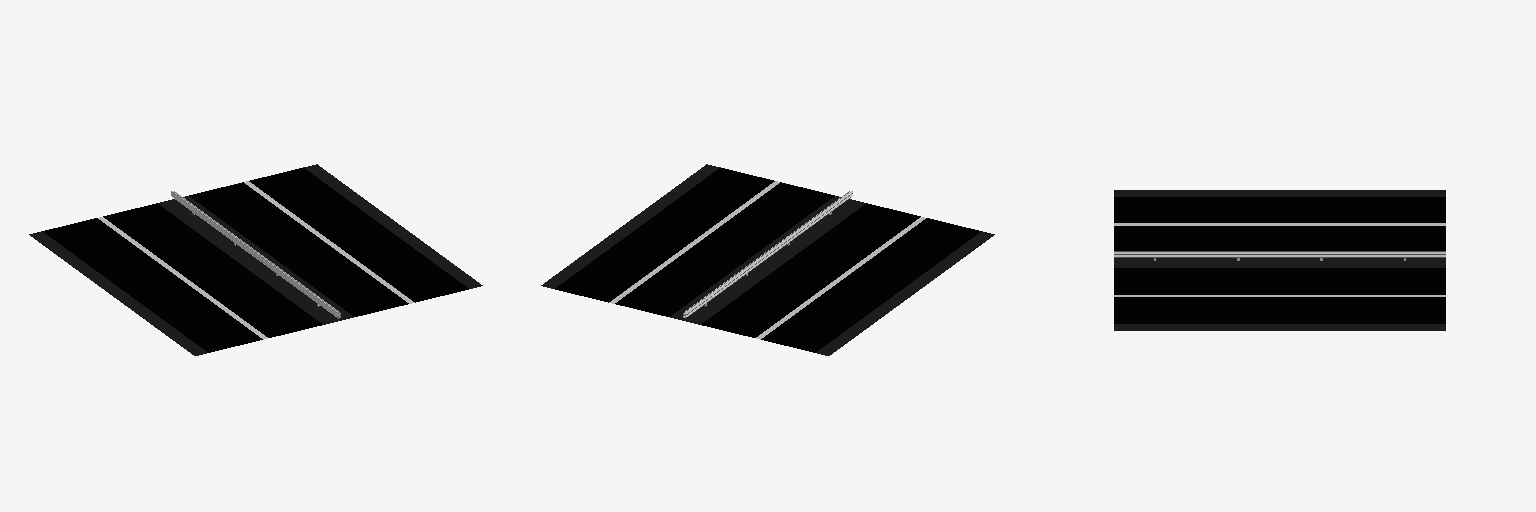
The model's file is Straight.obj.
3 views of the same model, side by side, from view 1: azimuth 30°, elevation 25°; view 2: azimuth 150°, elevation 25°; view 3: azimuth 270°, elevation 25° (orthographic).
Parts seen in each view (by area): view 1: Ground_Ground_Plane.002, Middle_Barrier_Cube; view 2: Ground_Ground_Plane.002, Middle_Barrier_Cube; view 3: Ground_Ground_Plane.002, Middle_Barrier_Cube.
Part boxes in pixels (bbox=[...]): Ground_Ground_Plane.002: bbox=[29, 164, 482, 355]; Middle_Barrier_Cube: bbox=[171, 191, 340, 318]; Ground_Ground_Plane.002: bbox=[541, 164, 994, 355]; Middle_Barrier_Cube: bbox=[683, 191, 852, 318]; Ground_Ground_Plane.002: bbox=[1114, 190, 1445, 330]; Middle_Barrier_Cube: bbox=[1114, 251, 1445, 257].
Size of the model in its own units: 105 by 3.01 by 105.